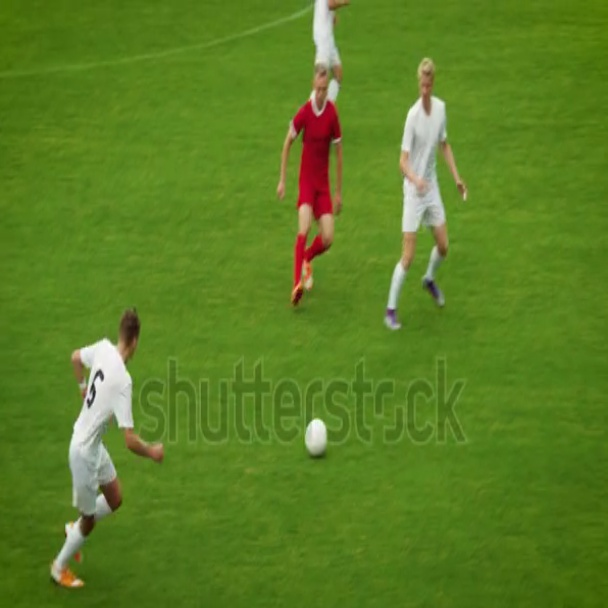ball: (301, 414, 333, 463)
